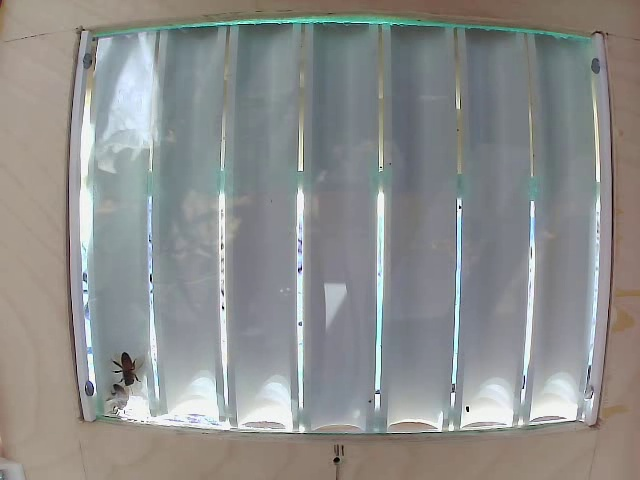bee: (108, 338, 145, 392)
